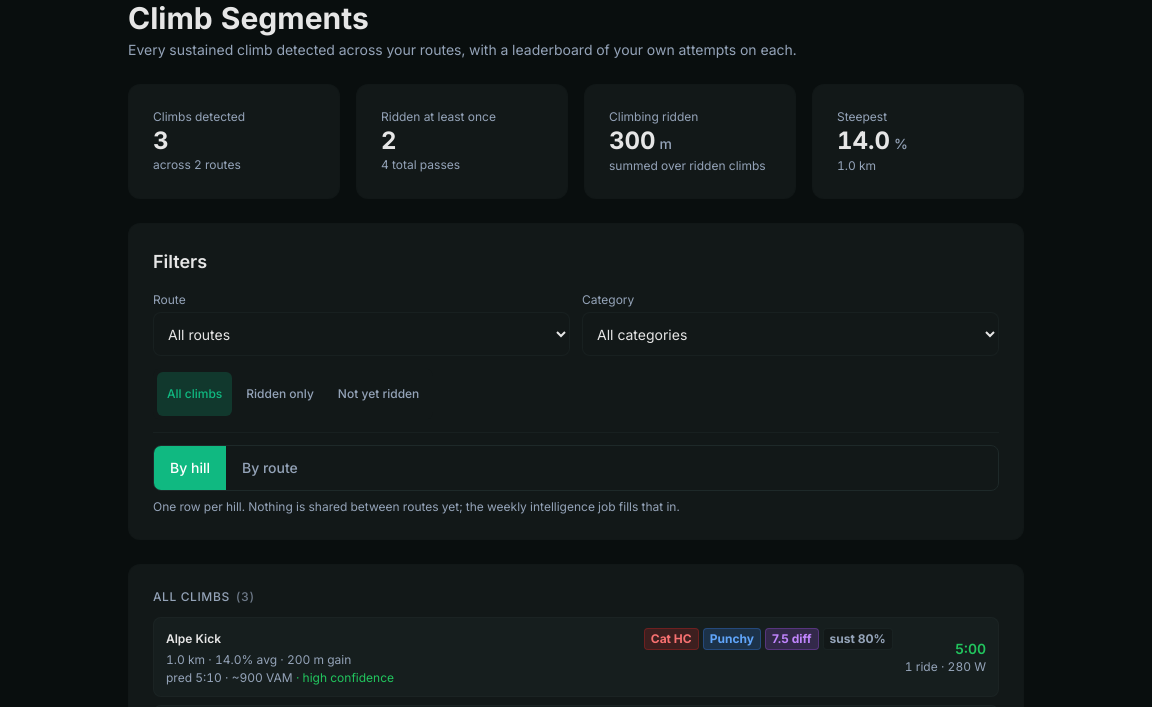
Test: segments page › groups segments under their route
Click the tab "By route".
click(270, 468)  # box top-left (226, 446), bottom-right (314, 490)
(page scrolled)
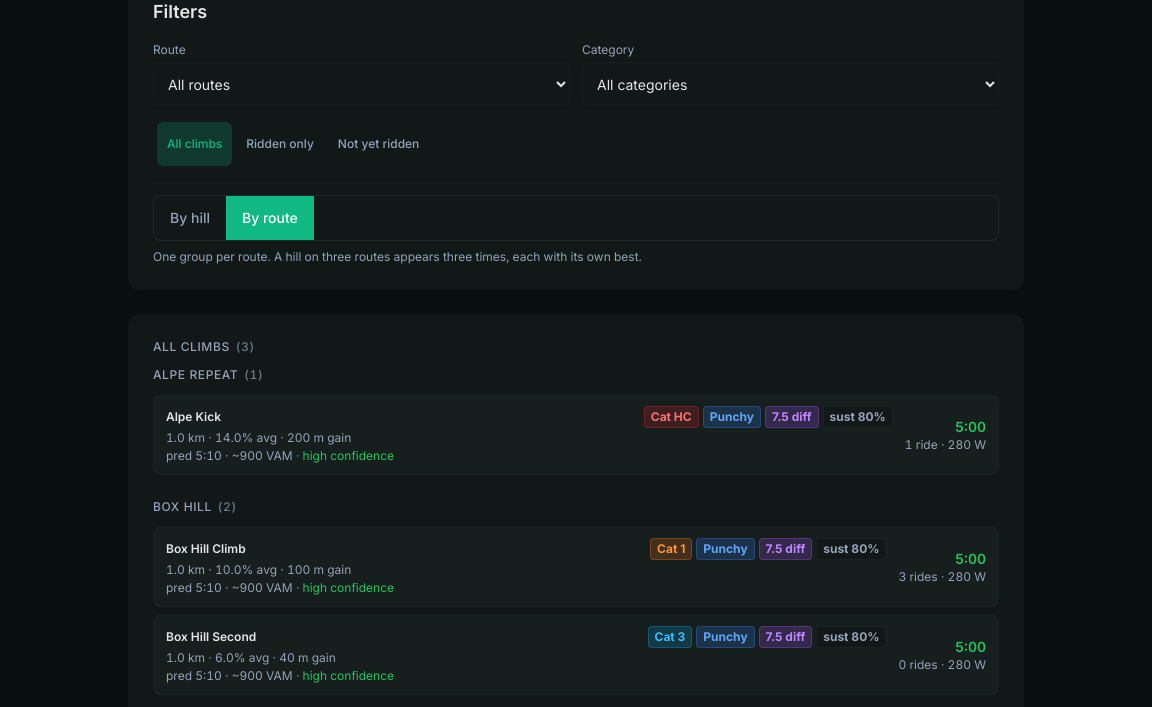
Check: the heading "Alpe Repeat(1)" is shown, box top-left (153, 367), bottom-right (263, 383)
Check: the heading "Box Hill(2)" is shown, box top-left (153, 499), bottom-right (237, 515)
